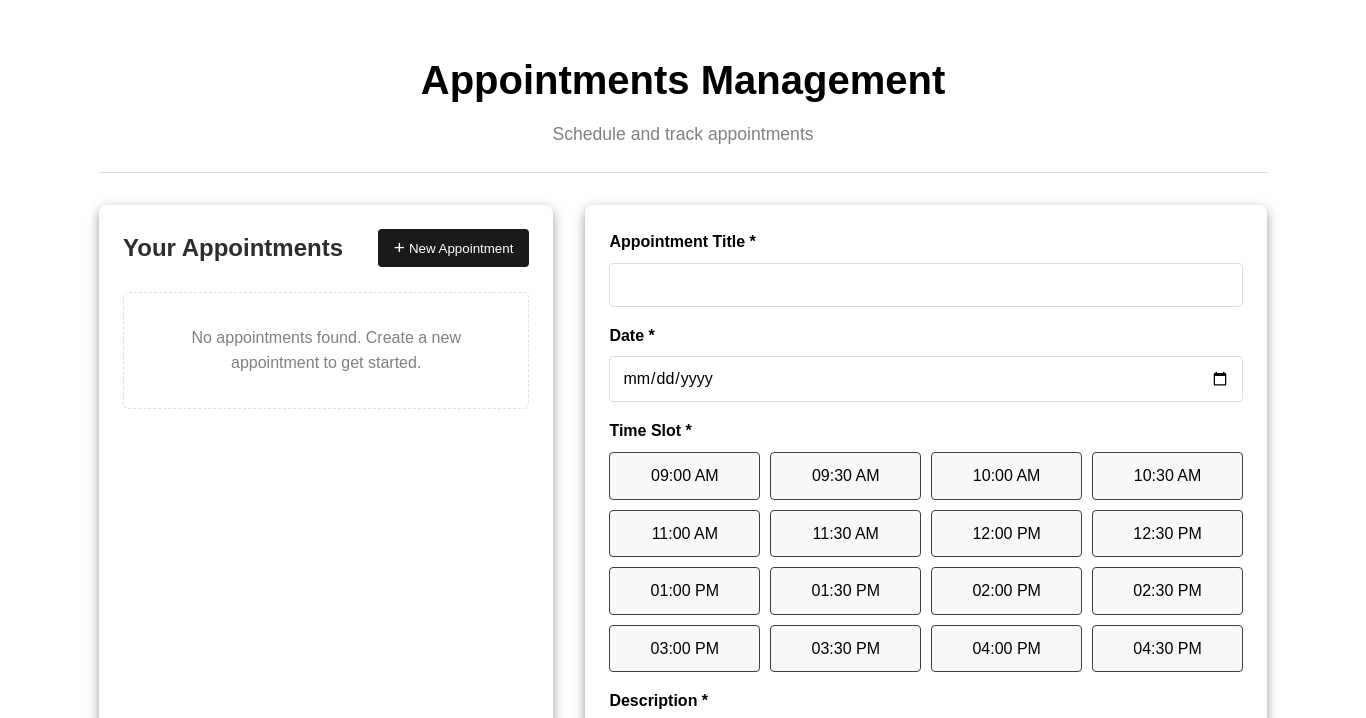
Test: UserAppointments Component › shows error message if createAppointment API fails
The width and height of the screenshot is (1366, 718).
Type "Test" into the field labelled "Appointment Title *".
click(926, 285); type("Test")  # box x1=609 y1=263 x2=1243 y2=307
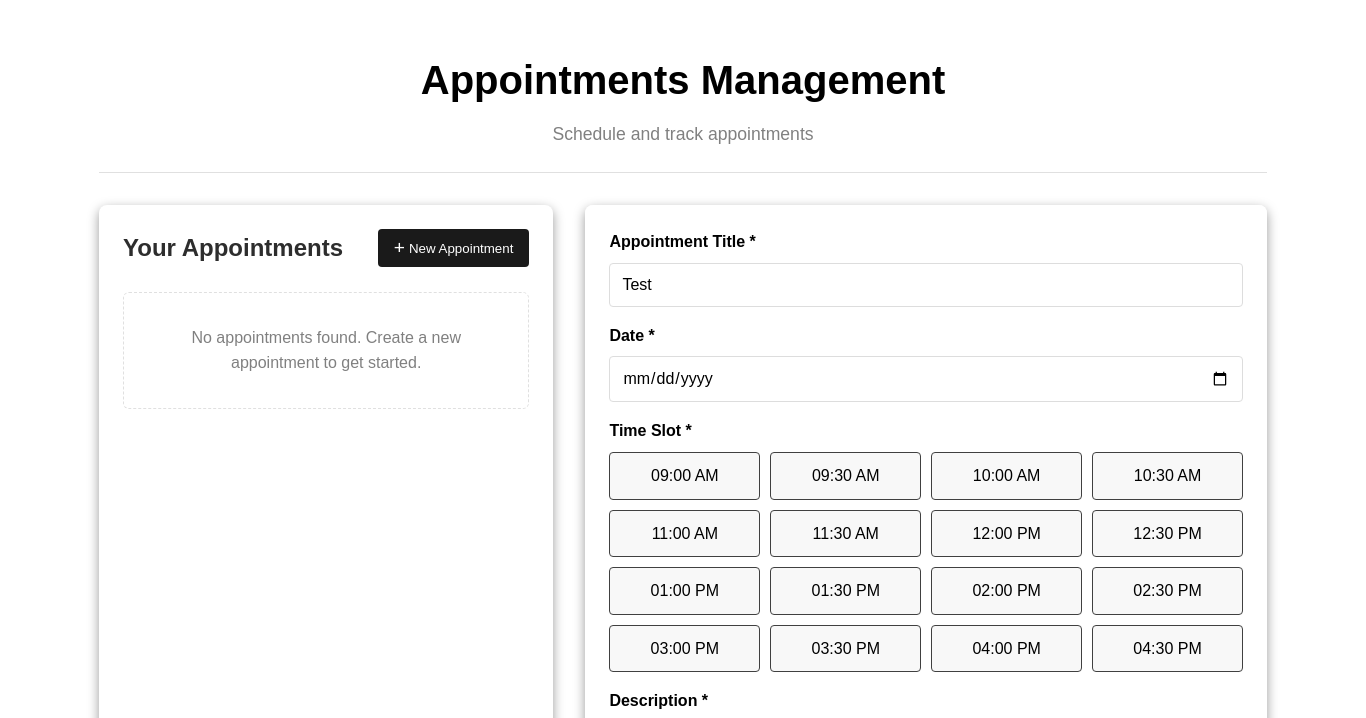
Type "2099-12-31" into the date field labelled "Date *".
click(926, 379); type("2099-12-31")  # box x1=609 y1=356 x2=1243 y2=402
(page scrolled)
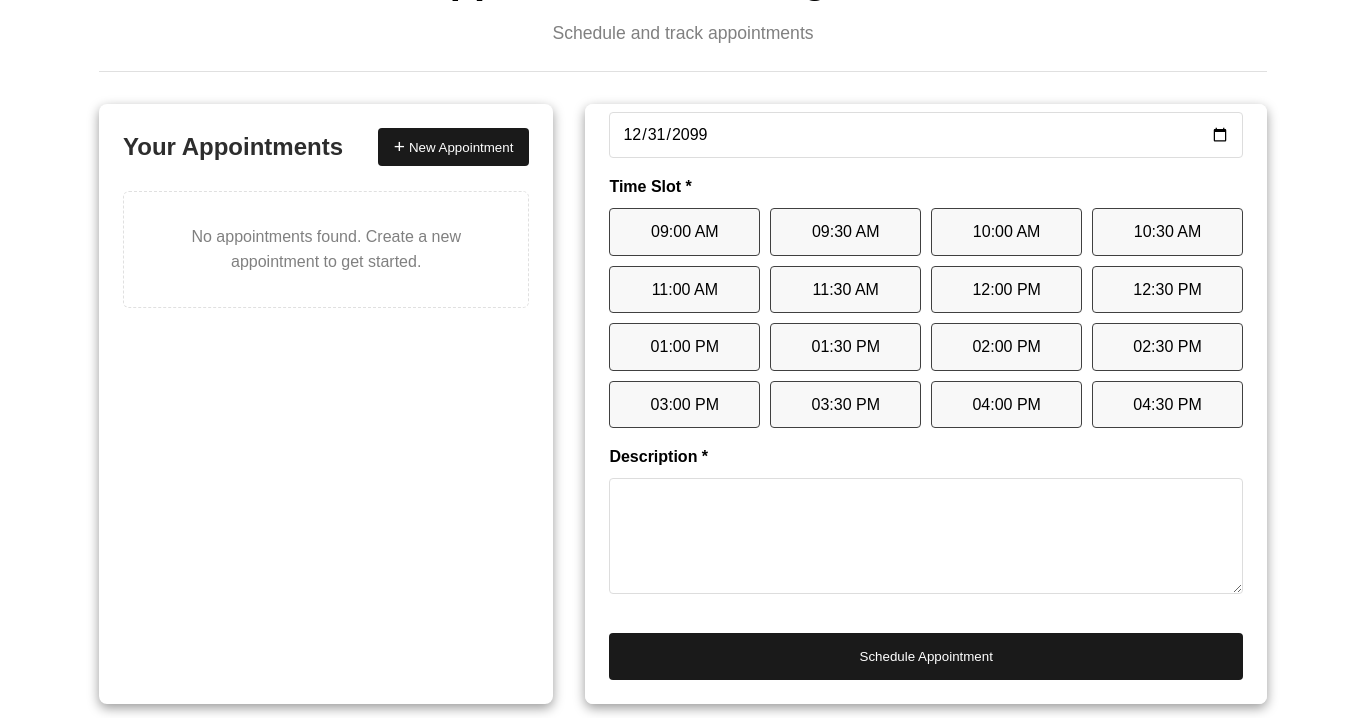
Type "A valid description" into the text box labelled "Description *".
click(926, 536); type("A valid description")  # box x1=609 y1=478 x2=1243 y2=594
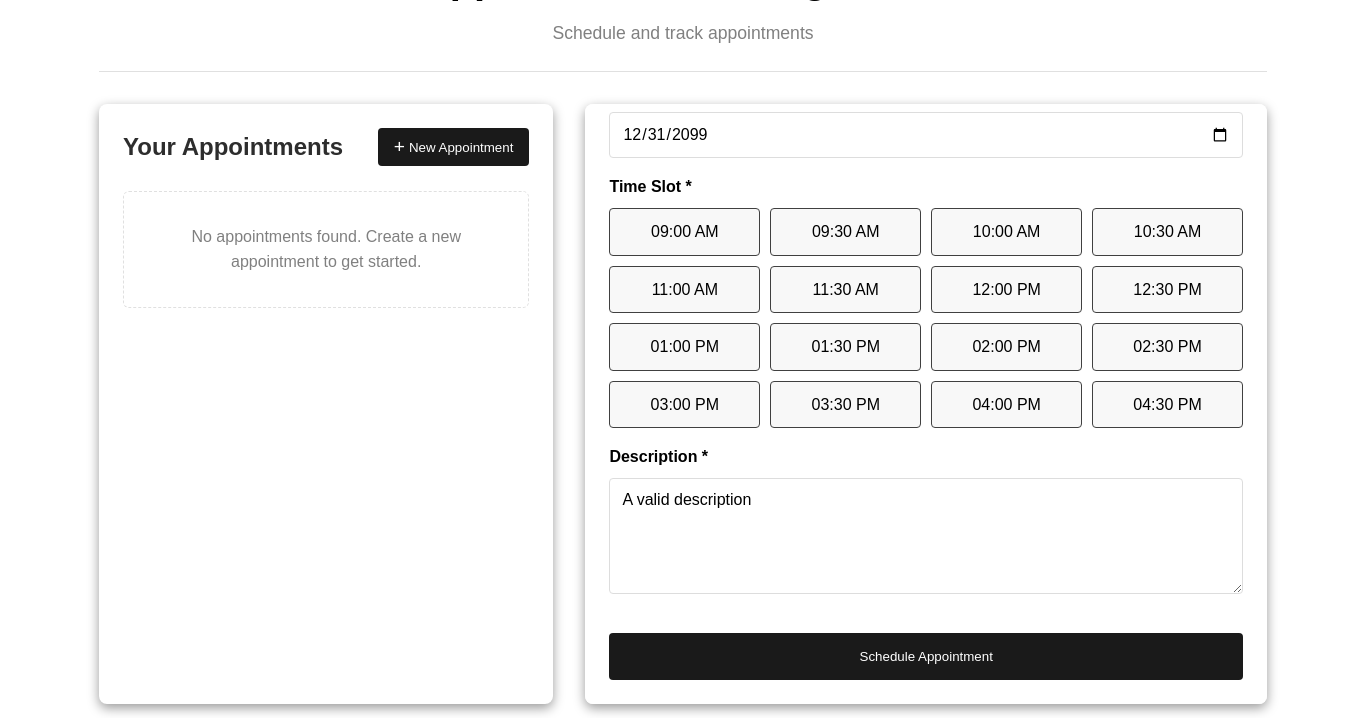
Click the text "09:00 AM".
click(685, 232)  # box x1=609 y1=208 x2=760 y2=256
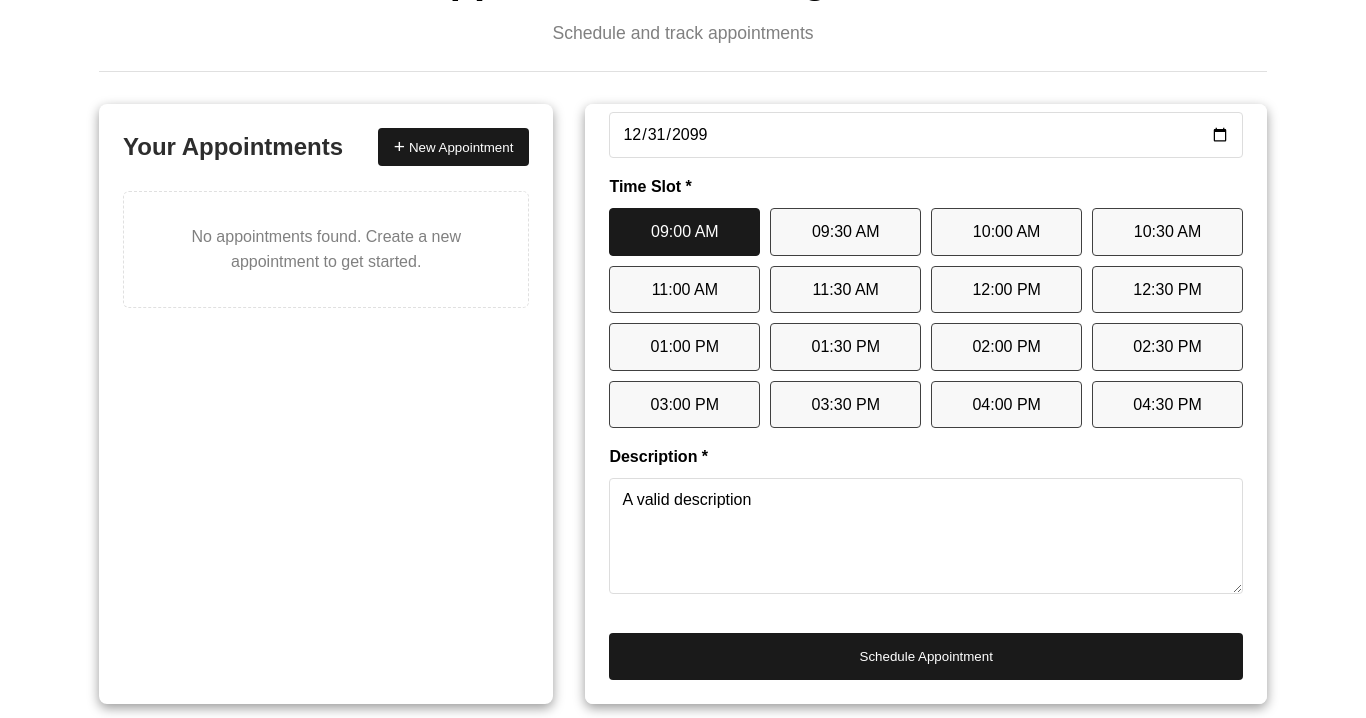
Click the button "Schedule Appointment".
click(926, 657)  # box x1=609 y1=634 x2=1243 y2=680
(page scrolled)
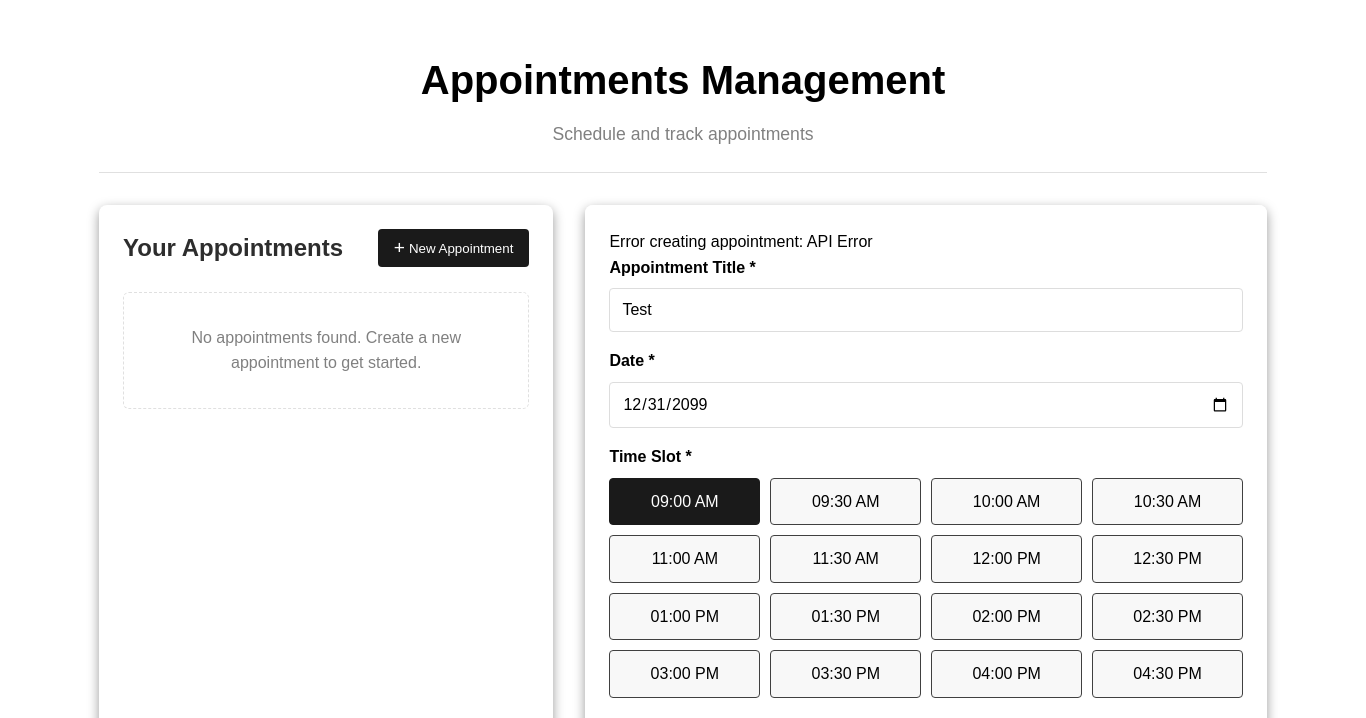
Expected: the text "Error creating appointment: API Error" is shown, x1=609 y1=233 x2=873 y2=250
